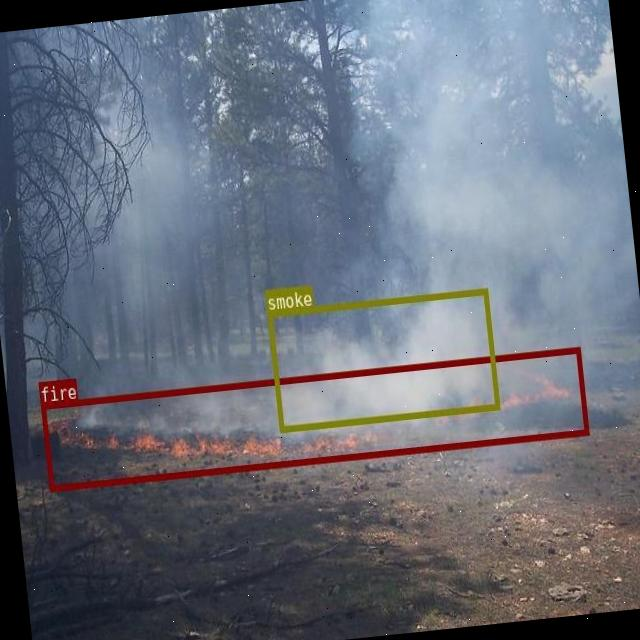fire: (40, 345, 588, 489)
smoke: (266, 288, 499, 432)
